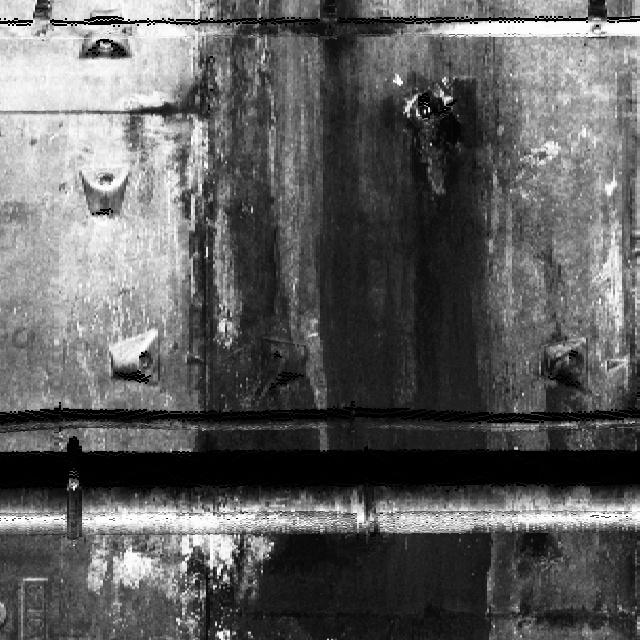leakage: (155, 0, 510, 445), (175, 529, 508, 639)
